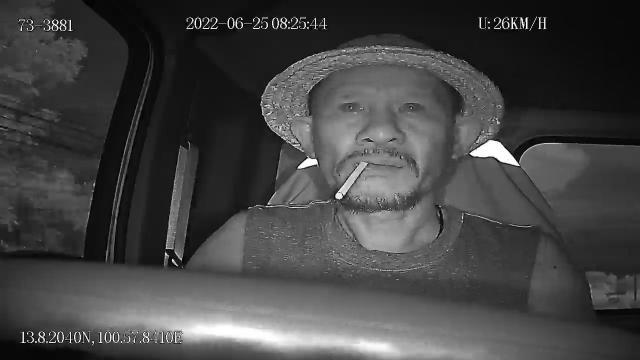SafeDriving: (392, 92, 432, 121), (334, 91, 371, 118)
Smoking: (334, 161, 368, 201)
